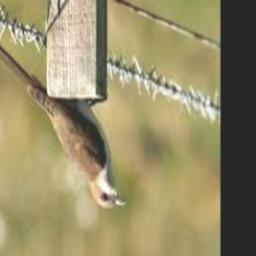Cuckoo: (0, 31, 127, 208)
